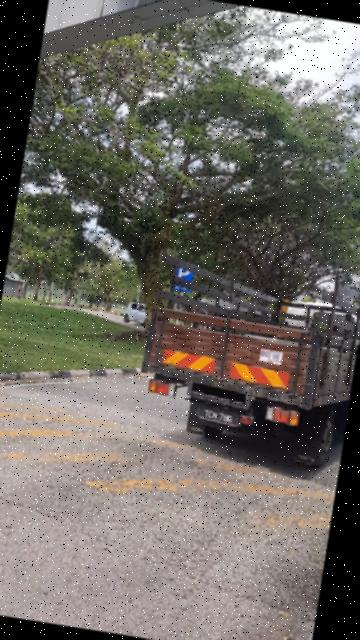License_Plate: (196, 401, 243, 431)
lorry: (117, 232, 360, 479)
